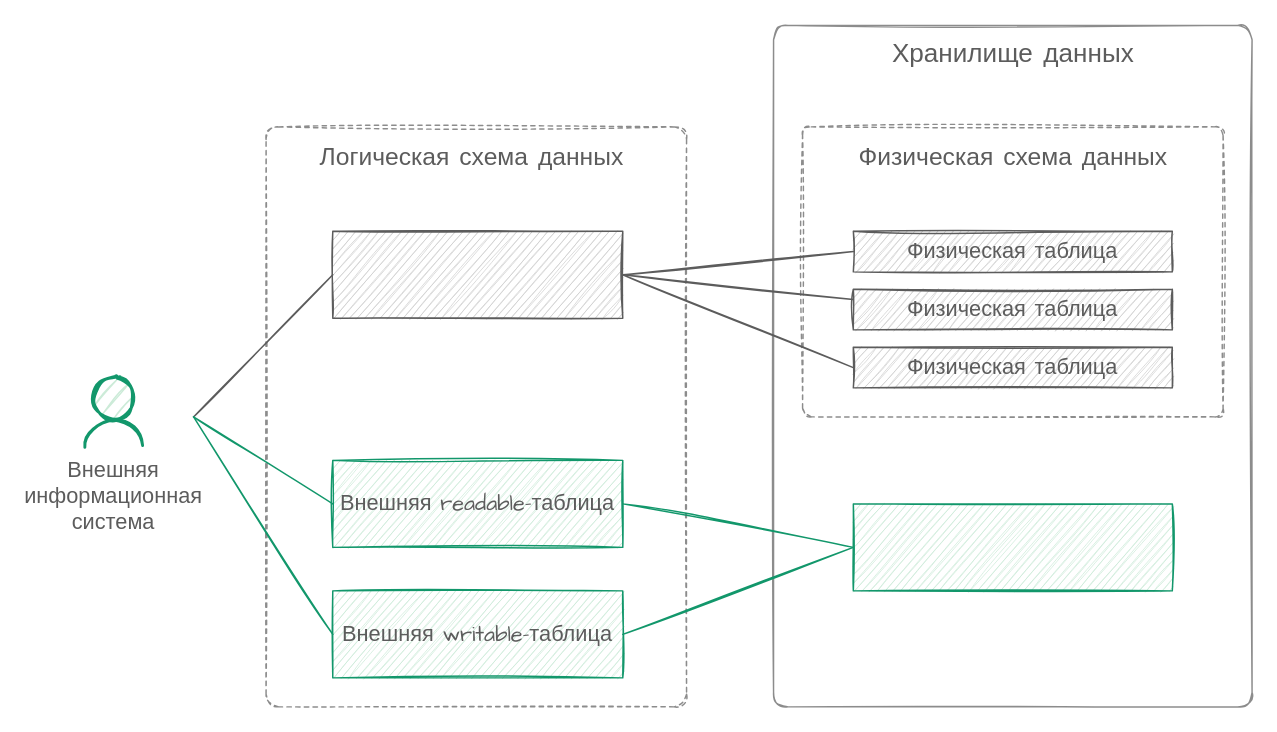
Some shapes in this 1277 by 732 pixel diagram are drawn without their labels. Here are the shapes that lost their labels. From the top down, the centre of each, then its label:
At [477,274]: "Логическая таблица".
At [1012,546]: "Standalone-таблица".
